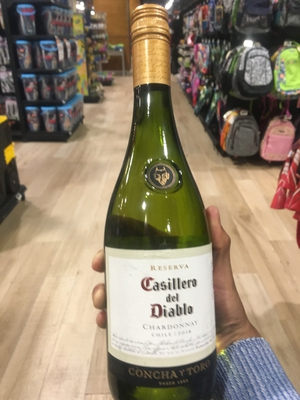casillero del diablo chardonnay: (105, 10, 223, 397)
